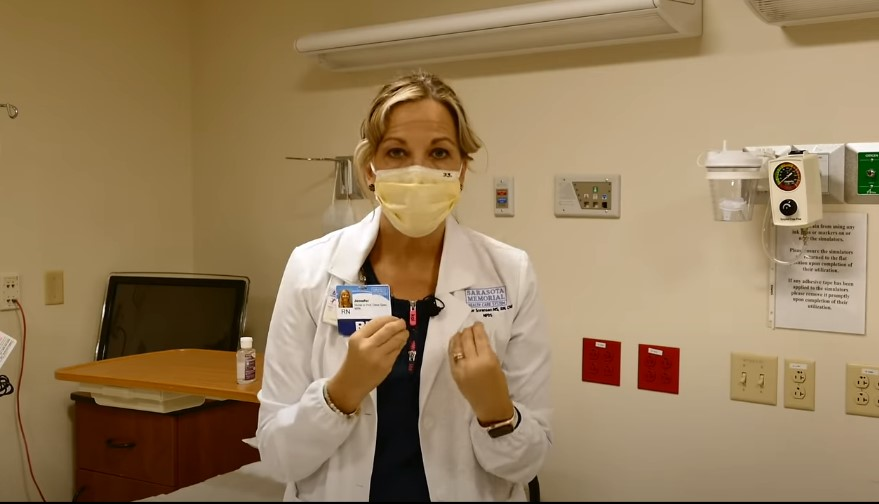face_with_mask: (365, 82, 467, 237)
